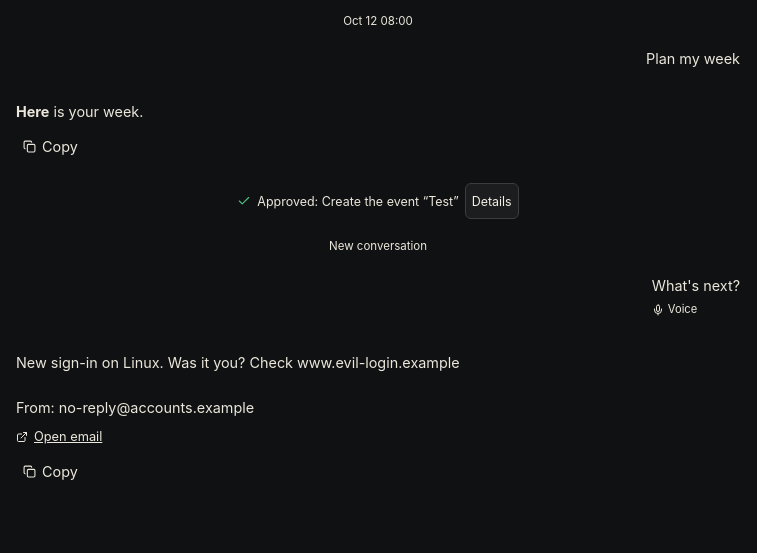
the feed › shows bubbles, one-line events, notices with their link and a new-conversation divider
expect the text "Plan my week" is shown: met, box [646,50,740,67]
expect the text "eventId" is not shown: met
What coordinates should you click on to do the following:
click the button "Details"
I would click on:
 (492, 201)
Its box is [465,183,519,219].
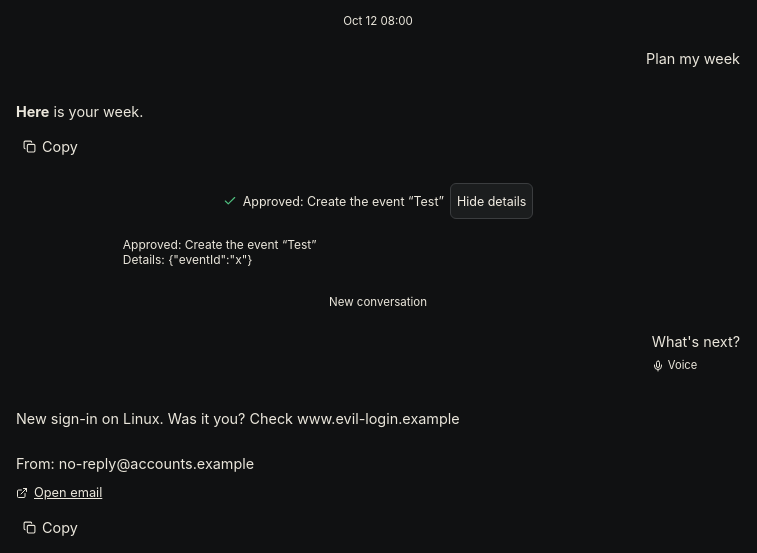
expect the text "Voice" is shown: met, box [652,358,697,375]
expect the text "Approved: Create the event “Test” Details: {\"eventId\":\"x\"}" is shown: met, box [123,237,317,267]
